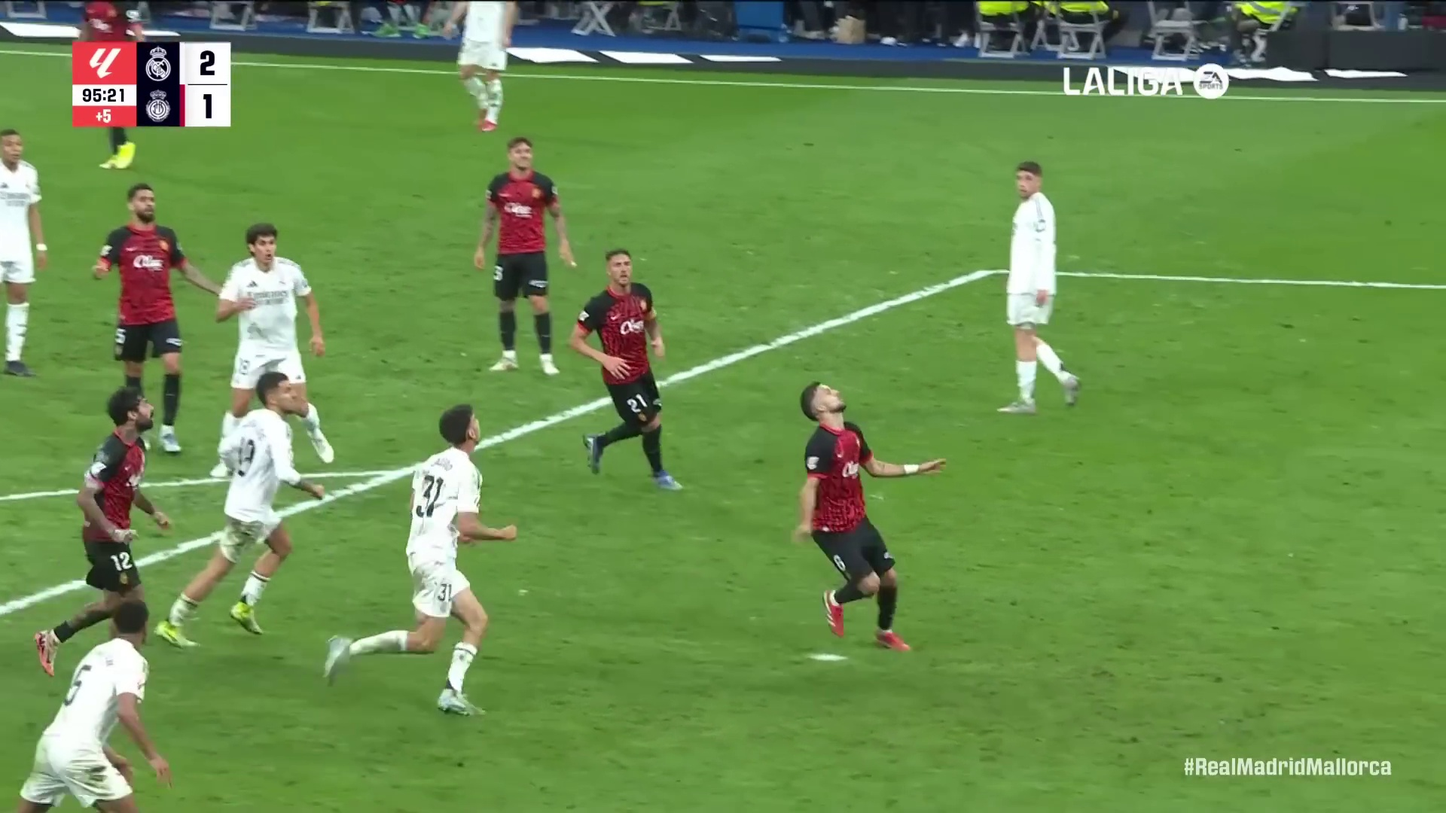player: (323, 397, 523, 724), (155, 372, 330, 651), (792, 379, 948, 656), (31, 384, 173, 676), (16, 599, 182, 808), (94, 183, 223, 444), (209, 222, 336, 481), (572, 247, 684, 491), (468, 137, 581, 373), (987, 149, 1083, 416), (0, 126, 58, 380), (442, 0, 526, 133)
